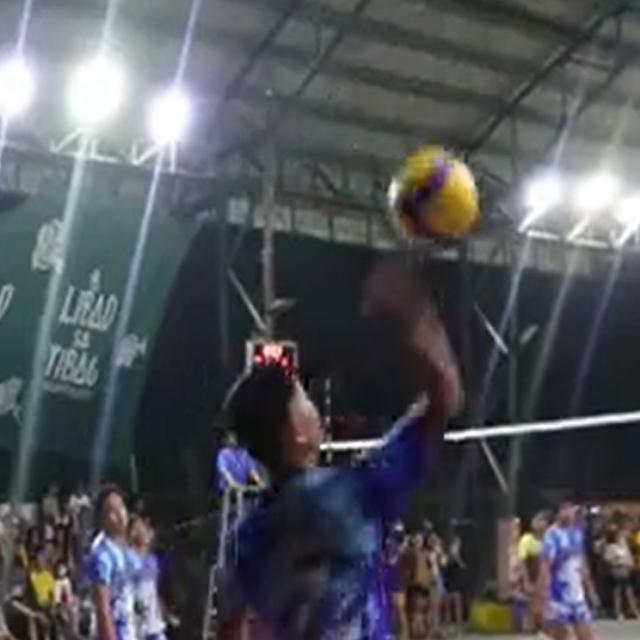volleyball: (384, 146, 481, 247)
